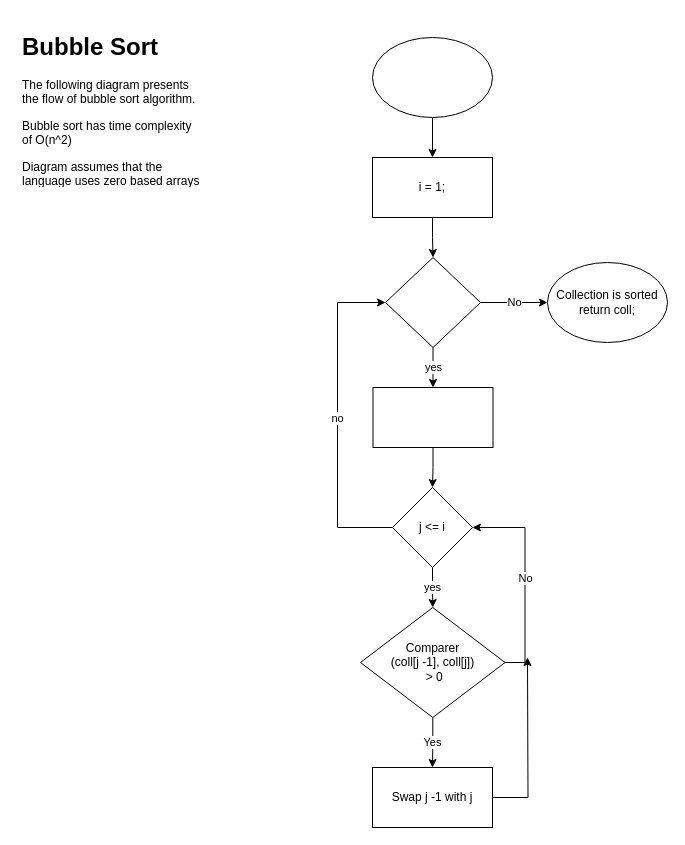
Image size: 685x845. Some labels were removed from this diagram. The box of each missing label's shape, as (x1, y1, x2, y2) in pixels:
i < coll.Length: (384, 256, 480, 348)
j = coll.Length - 1: (372, 386, 493, 448)
Start (T[] coll, Func<T,T,int> comparer): (372, 36, 492, 118)
